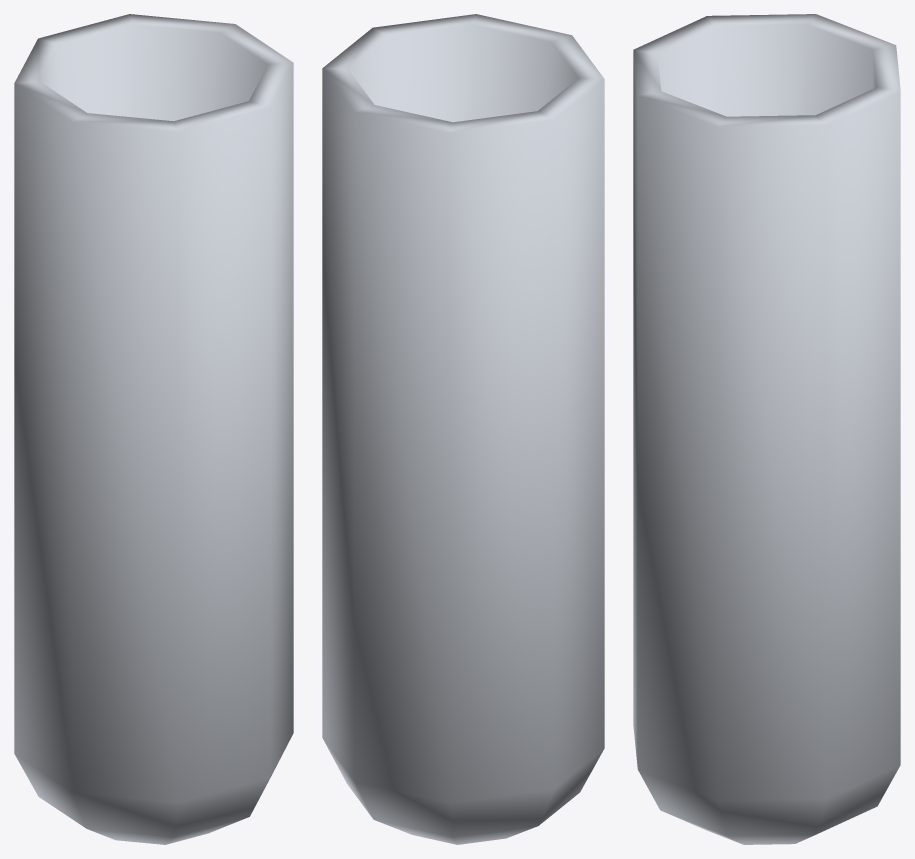
The model's file is bottle_glassware_boiling_tube_small.glb.
The picture shows the model from 3 angles, left to right: view 1: azimuth 30°, elevation 25°; view 2: azimuth 150°, elevation 25°; view 3: azimuth 270°, elevation 25°; orthographic projection.
Visible parts, largest first — view 1: bottle_glassware_boiling_tube_small; view 2: bottle_glassware_boiling_tube_small; view 3: bottle_glassware_boiling_tube_small.
Part boxes in pixels (x1,y1,x2,y2): bottle_glassware_boiling_tube_small: (14,14,293,844); bottle_glassware_boiling_tube_small: (322,14,604,844); bottle_glassware_boiling_tube_small: (633,14,900,844).
Size of the model in its own units: 4.1 by 12.65 by 4.1.
1 material, 1 textured.
